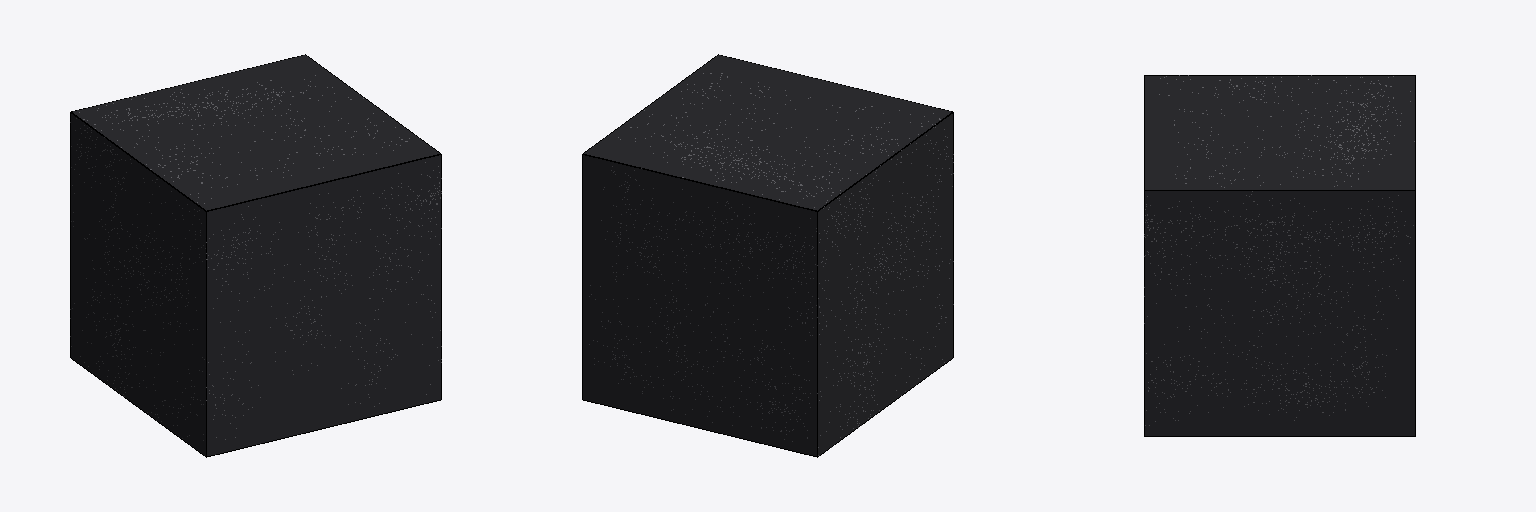
The picture shows the model from 3 angles: view 1: azimuth 30°, elevation 25°; view 2: azimuth 150°, elevation 25°; view 3: azimuth 270°, elevation 25°; orthographic projection.
Visible parts, largest first — view 1: box; view 2: box; view 3: box.
Part boxes in pixels (bbox=[...]): box: bbox=[70, 54, 441, 457]; box: bbox=[582, 54, 953, 457]; box: bbox=[1144, 75, 1415, 436].
Bounding box in the file's own units: 2 × 2 × 2.
1 materials, 1 textured.